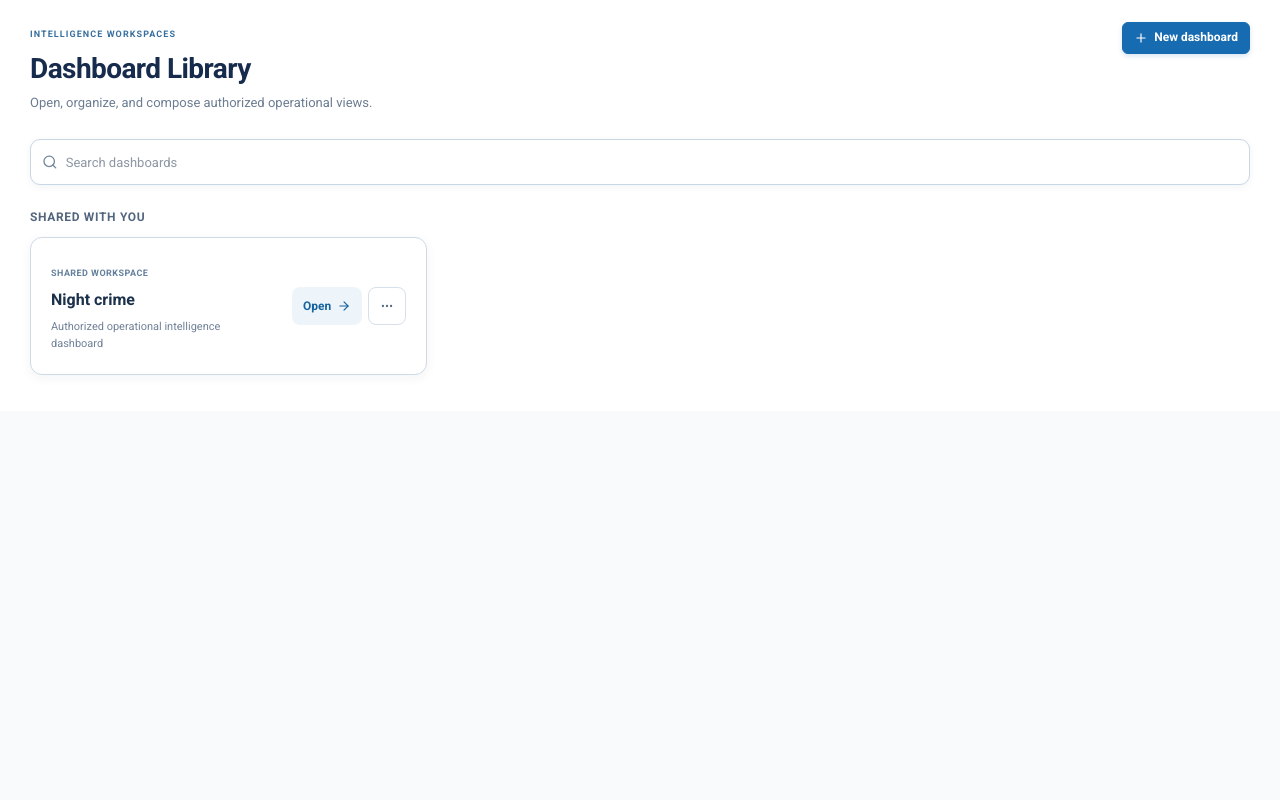
Test: failed deletion keeps the dashboard and reports the error
The image size is (1280, 800).
Click the button named "More actions for Night crime" at point(387, 306), box [368,287,406,325]
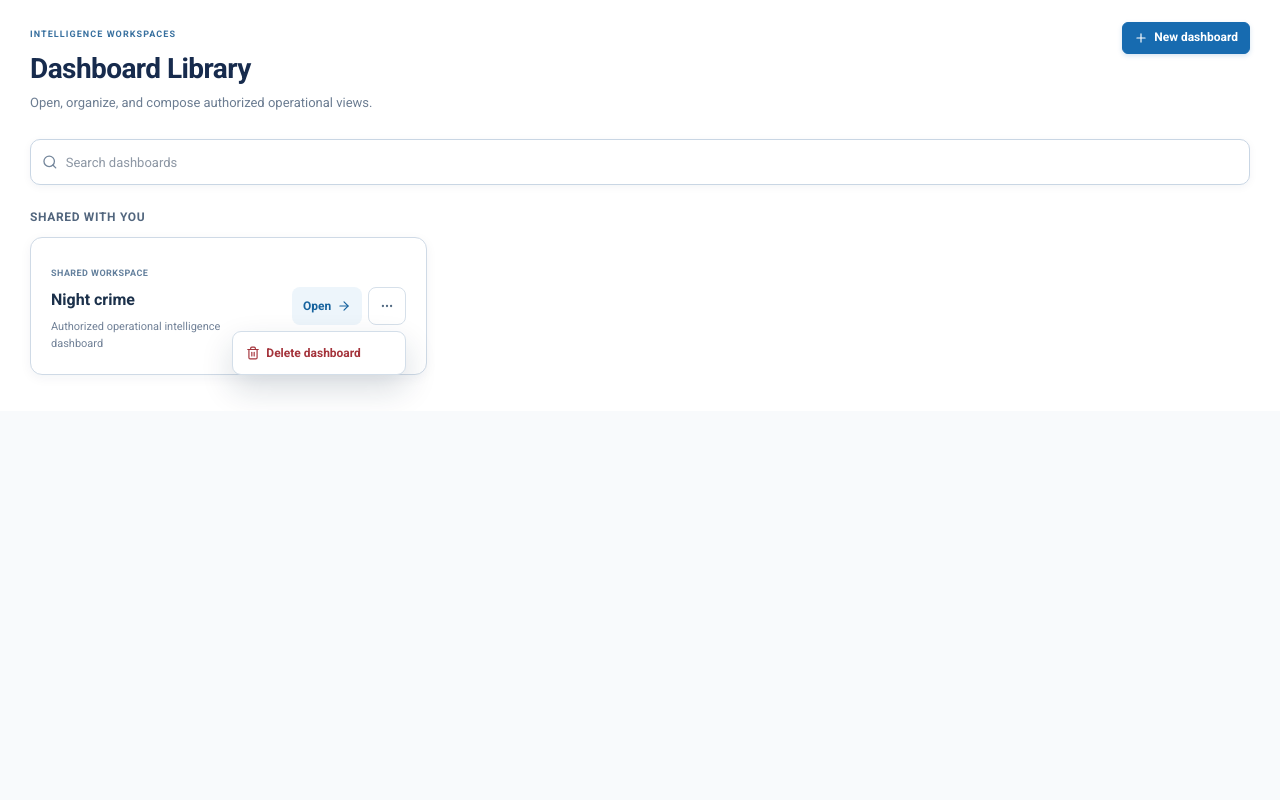
Click the menu item "Delete dashboard" at point(319, 353), box [238,337,400,369]
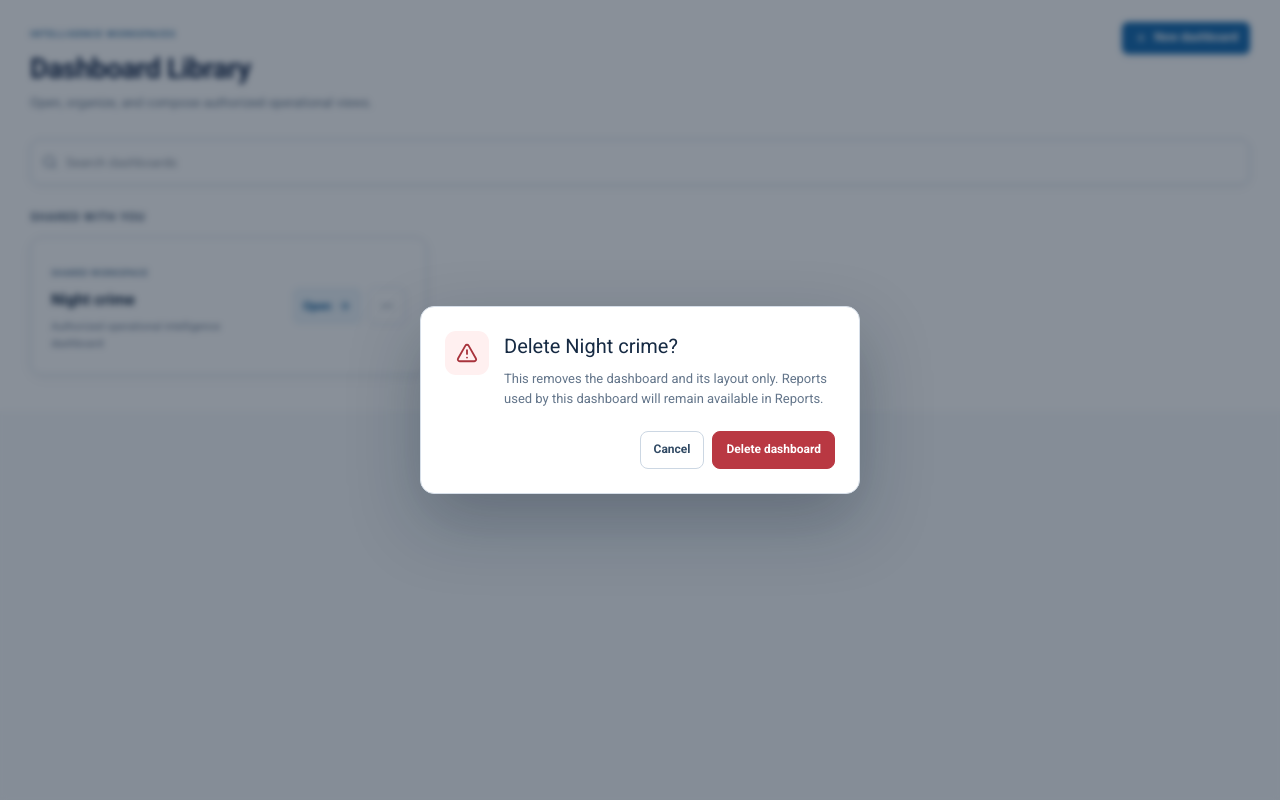
Click the button "Delete dashboard" at point(774, 450), box [712,431,835,469]
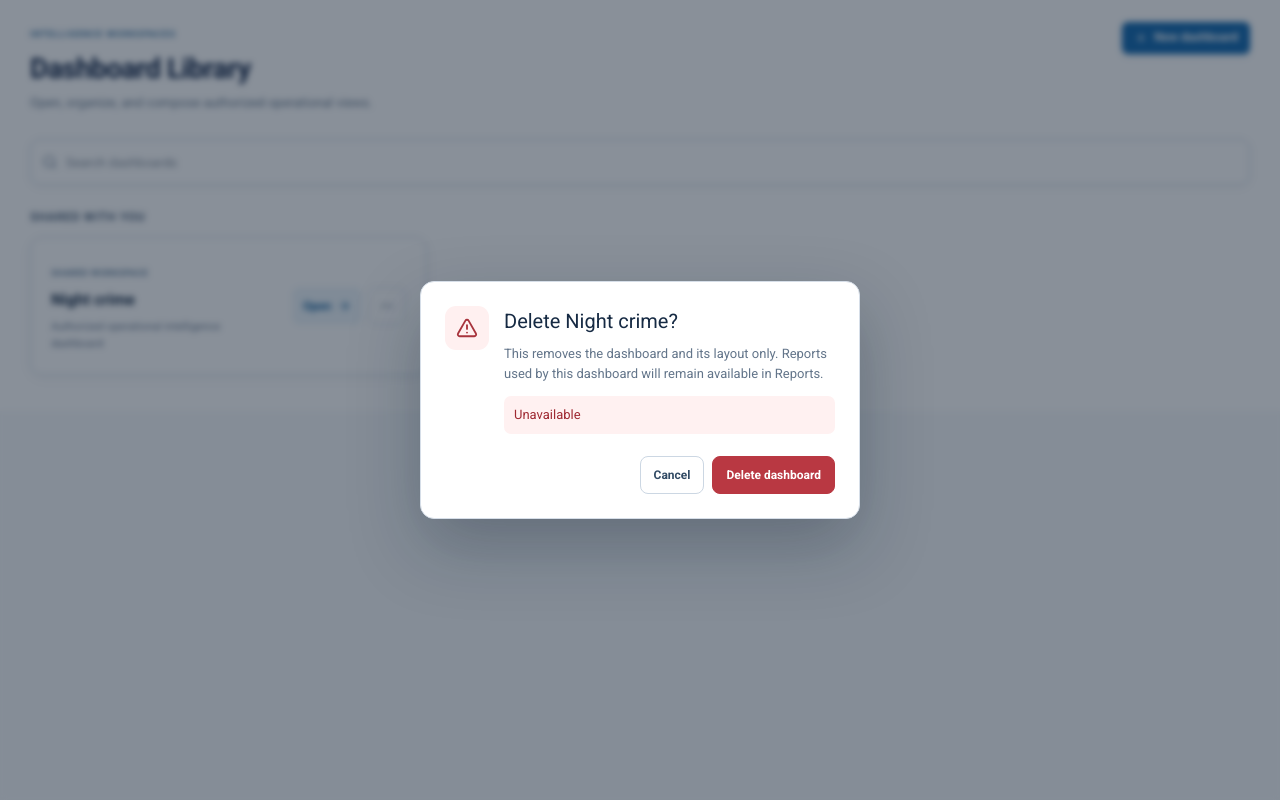
Expected: the heading "Night crime" is shown, [51,290,135,309]
Result: the message reads "Unavailable" at [514,407,581,422]
